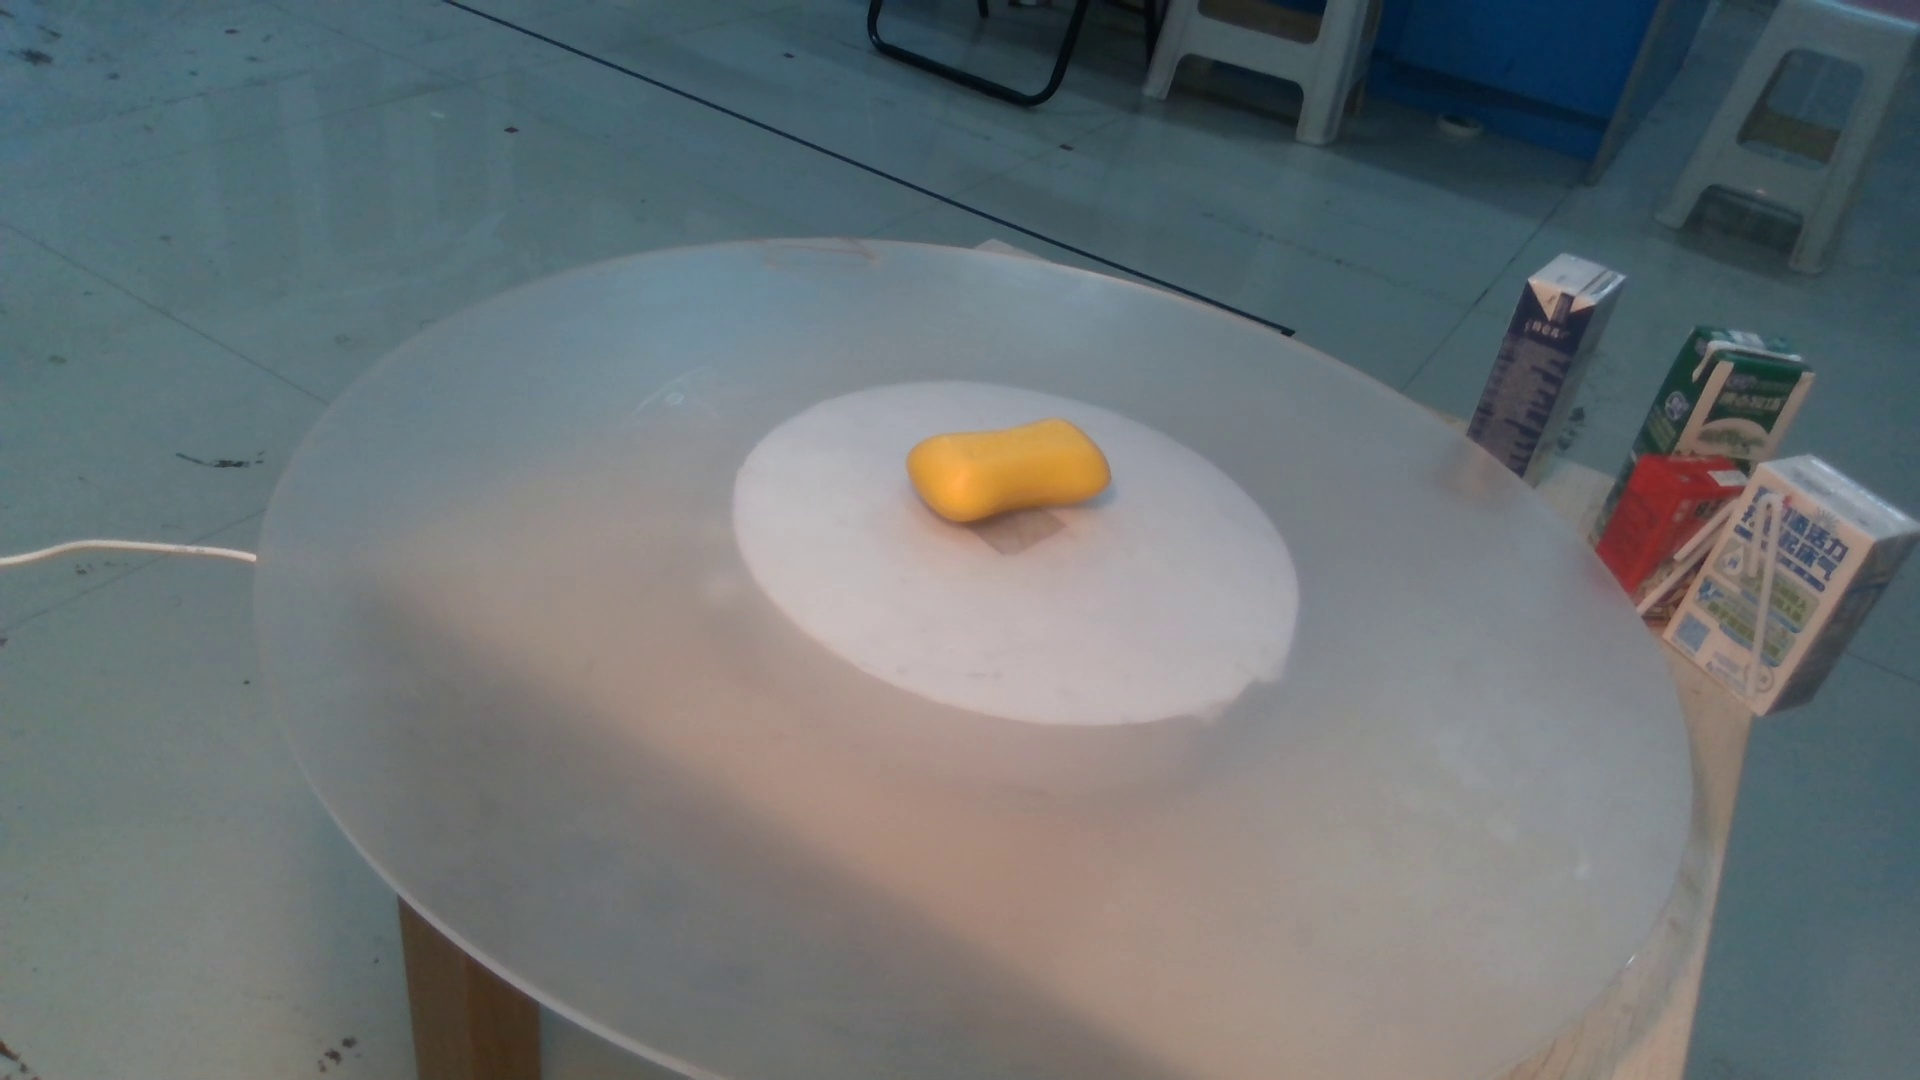CA003_1: (893, 400, 1160, 576)
